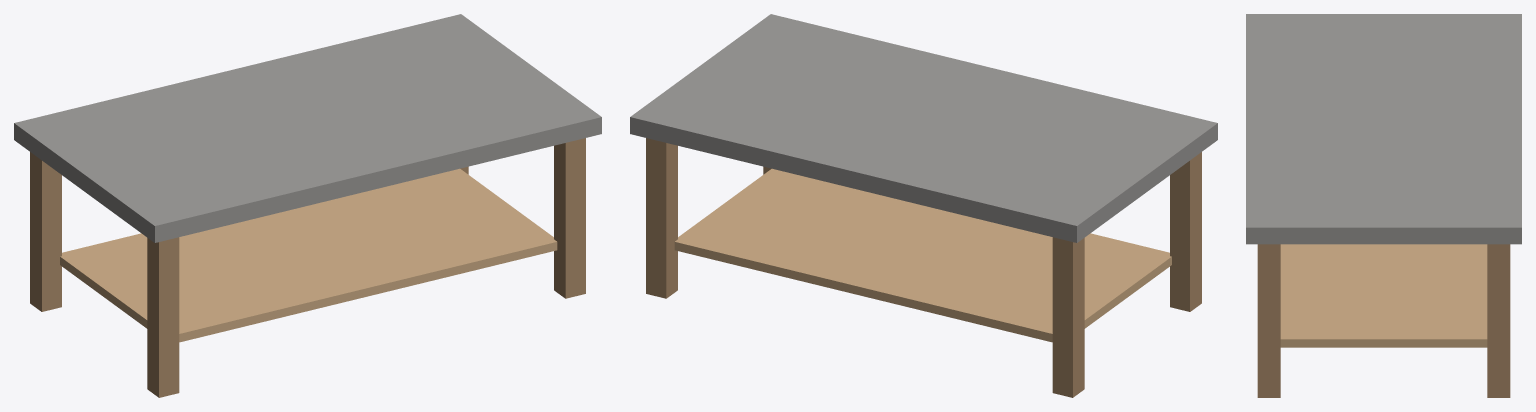
Rendered from coffee_table.glb.
The picture shows the model from 3 angles, left to right: view 1: azimuth 30°, elevation 25°; view 2: azimuth 150°, elevation 25°; view 3: azimuth 270°, elevation 25°; orthographic projection. The views are drawn at different scales.
Bounding box in the file's own units: 1.1 × 0.42 × 0.6.
